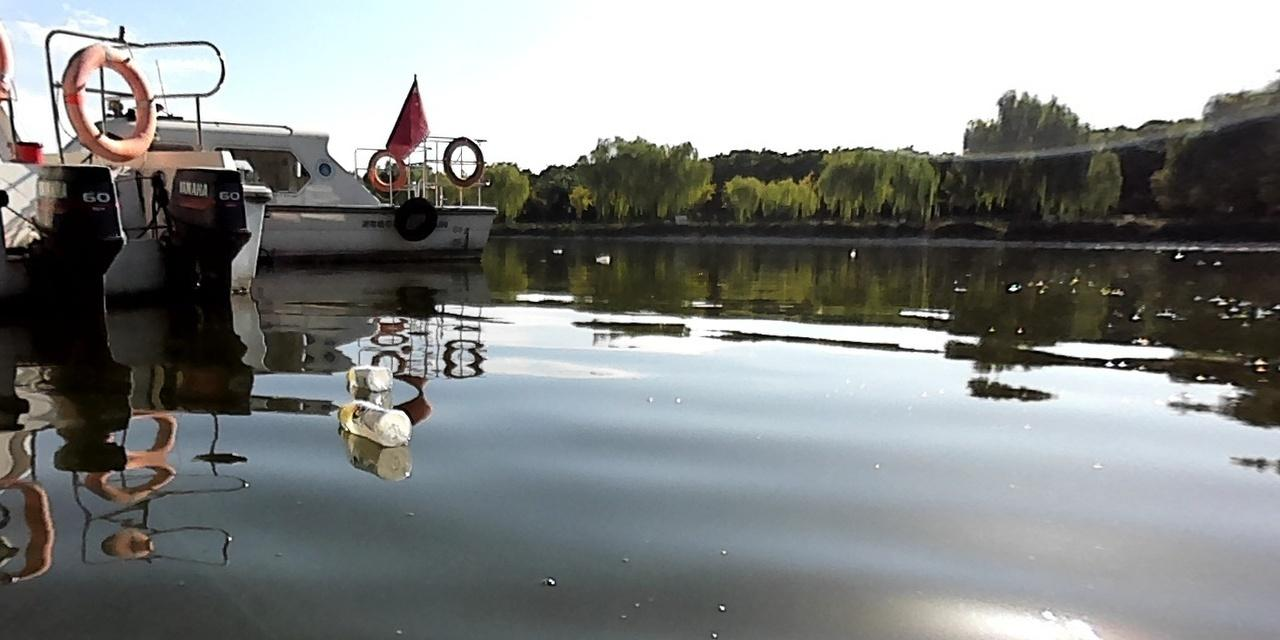bottle: (336, 399, 409, 444), (346, 363, 393, 391), (594, 254, 609, 262)
